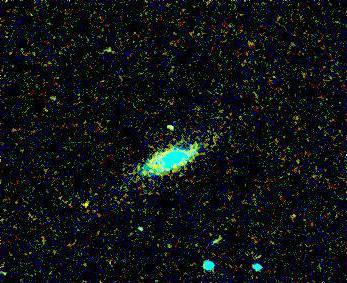star: (64, 191, 94, 221)
